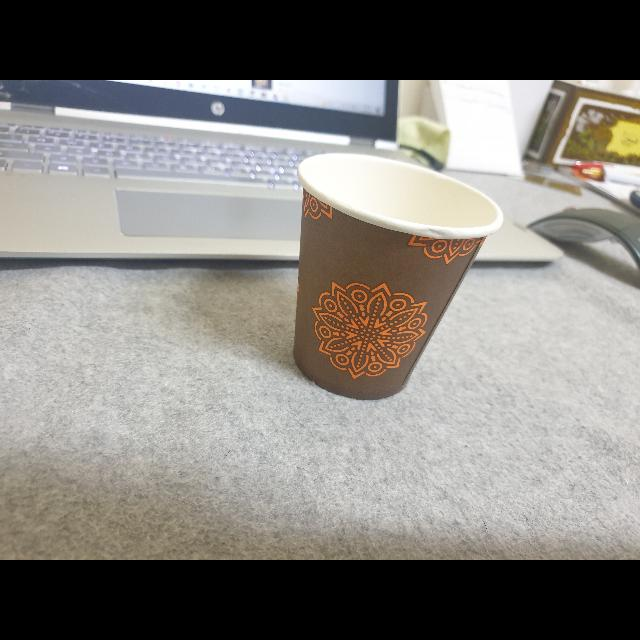trash: (268, 148, 510, 406)
